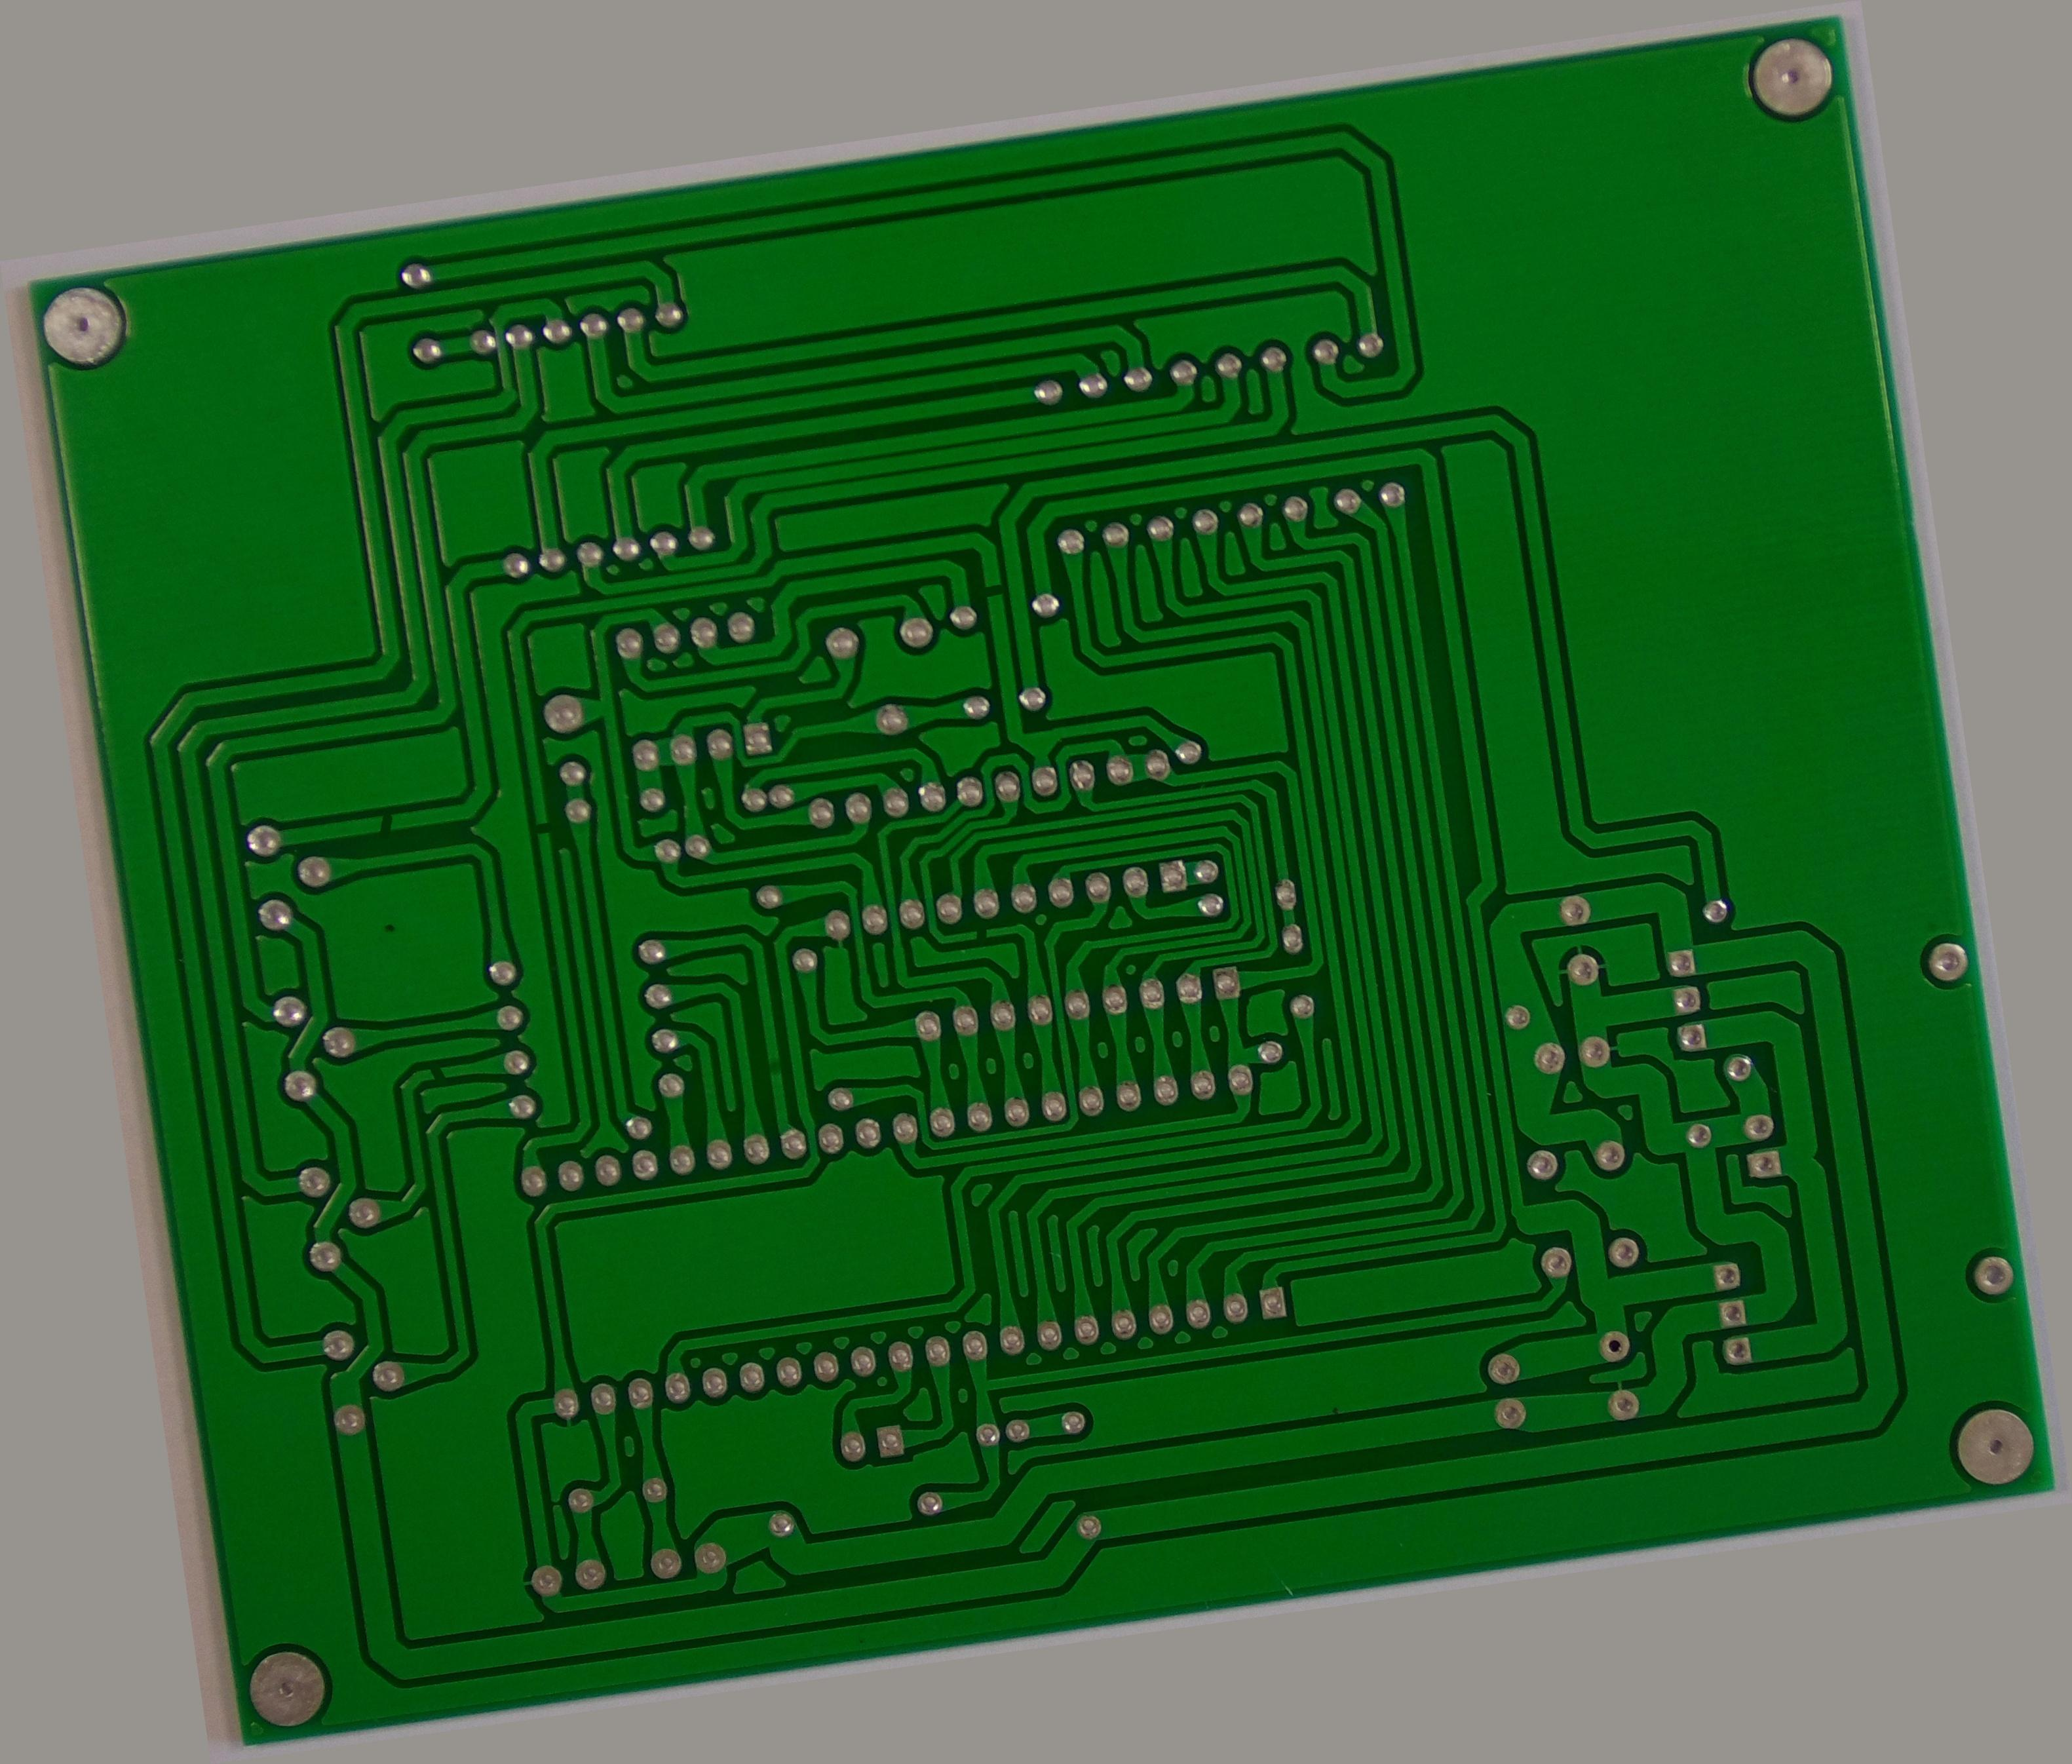open_circuit: (318, 693, 350, 726), (338, 990, 369, 1020), (1018, 527, 1046, 558), (492, 726, 518, 758), (954, 919, 980, 945)
